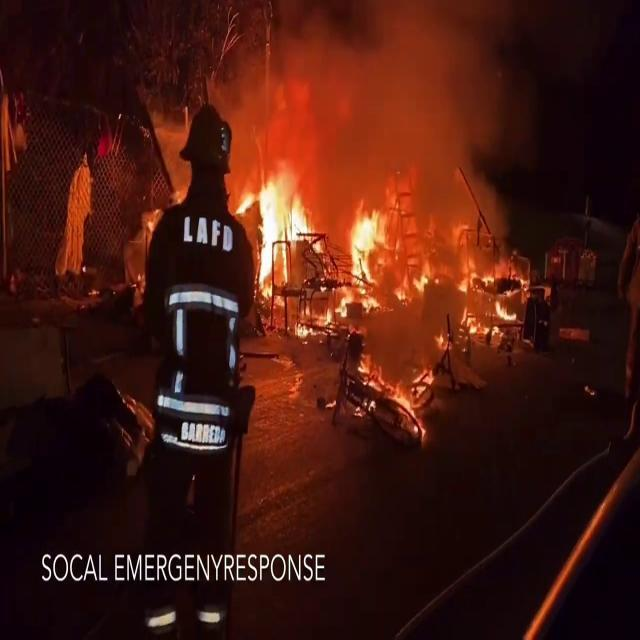Fire: (428, 216, 538, 368), (238, 164, 312, 300), (328, 200, 400, 328)
Smoke: (228, 1, 534, 170)
